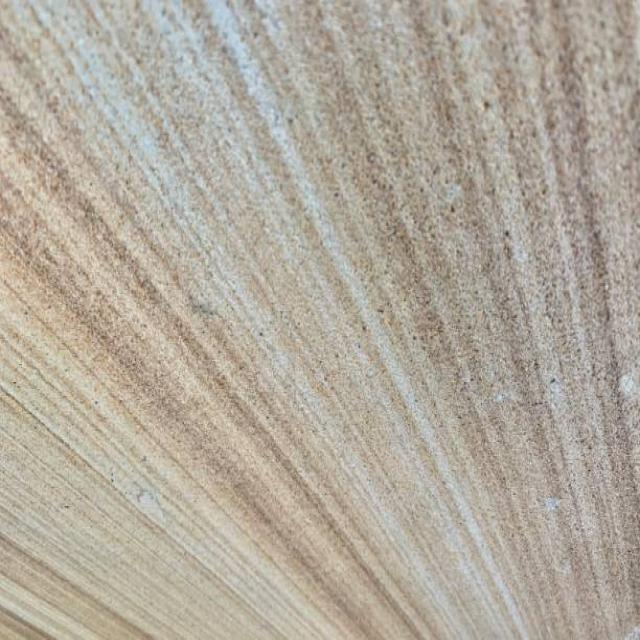Sedimentary: (1, 2, 640, 634)
